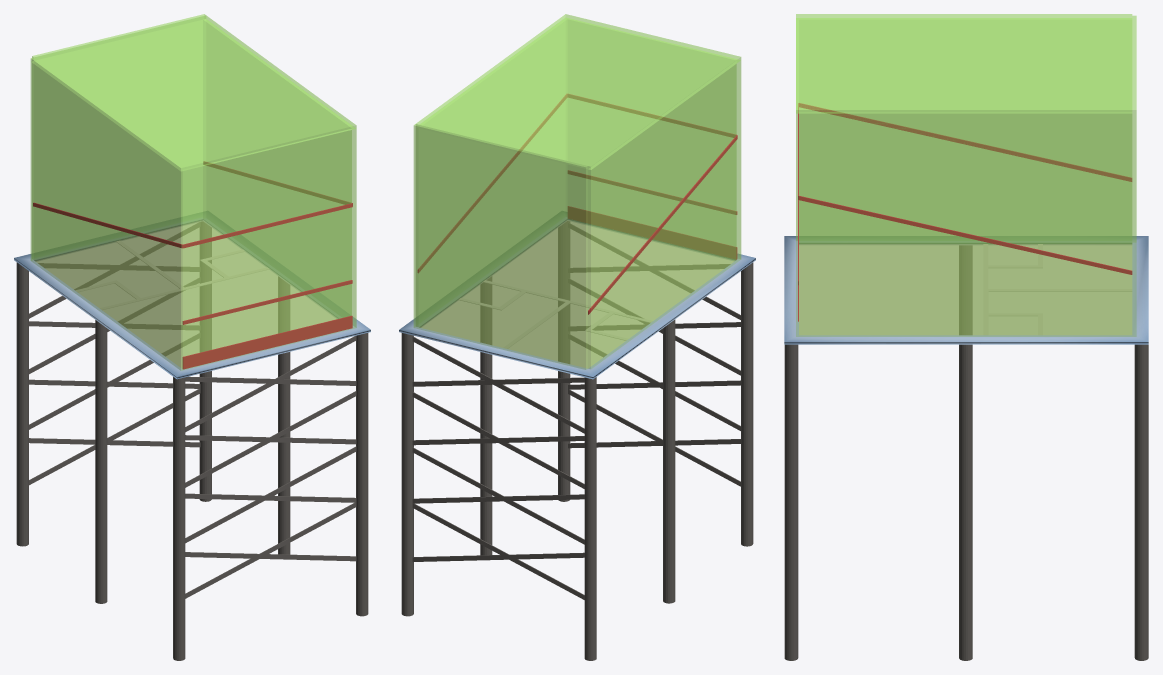
Rendered from Room.fbx.
3 views of the same model, side by side, from view 1: azimuth 30°, elevation 25°; view 2: azimuth 150°, elevation 25°; view 3: azimuth 270°, elevation 25° (orthographic). The views are drawn at different scales.
Visible parts, largest first — view 1: Squash_Court_Body, polySurface13, Squash_Court_Back_Wall, polySurface2, polySurface3, Squash_Court_Line, polySurface1; view 2: Squash_Court_Body, Squash_Court_Back_Wall, polySurface13, polySurface2, polySurface3, Squash_Court_Line, polySurface1; view 3: Squash_Court_Body, polySurface2, polySurface13, polySurface3, Squash_Court_Line, Squash_Court_Back_Wall, polySurface1.
Part boxes in pixels (x1,y1,x2,y2): Squash_Court_Body: [30, 15, 356, 370]; polySurface13: [16, 222, 368, 660]; Squash_Court_Back_Wall: [32, 14, 205, 258]; polySurface2: [36, 221, 336, 367]; polySurface3: [14, 211, 370, 379]; Squash_Court_Line: [33, 161, 352, 369]; polySurface1: [76, 241, 268, 309]; Squash_Court_Body: [416, 14, 741, 368]; Squash_Court_Back_Wall: [413, 124, 587, 369]; polySurface13: [401, 221, 753, 660]; polySurface2: [421, 220, 733, 367]; polySurface3: [399, 211, 755, 379]; Squash_Court_Line: [417, 94, 737, 314]; polySurface1: [459, 280, 652, 348]; Squash_Court_Body: [796, 14, 1132, 336]; polySurface2: [799, 244, 1131, 334]; polySurface13: [784, 245, 1148, 660]; polySurface3: [784, 236, 1148, 344]; Squash_Court_Line: [798, 103, 1132, 321]; Squash_Court_Back_Wall: [1132, 15, 1136, 336]; polySurface1: [983, 244, 1131, 334].
Bounding box in the file's own units: 7.35 × 17.64 × 10.67.
5 materials, 1 textured.
